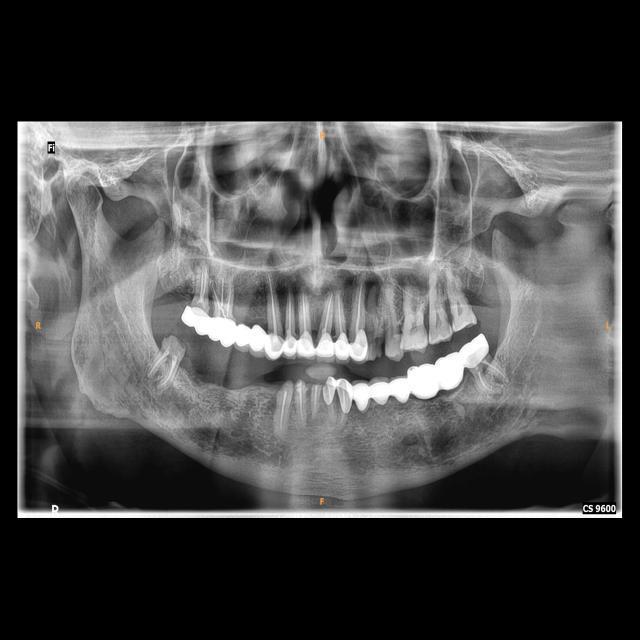dentin-curugu: (371, 331, 383, 362)
kanal-tedavisi: (473, 358, 513, 395), (208, 273, 234, 314), (266, 276, 284, 333), (146, 347, 172, 380), (192, 264, 208, 308), (298, 287, 312, 336), (157, 359, 179, 389), (285, 286, 297, 334), (354, 284, 364, 338), (275, 392, 289, 429), (334, 287, 344, 337), (323, 289, 333, 334), (311, 388, 320, 416), (297, 392, 305, 423)
kaplama: (458, 327, 493, 371), (212, 318, 235, 347), (181, 306, 208, 330), (335, 381, 354, 412), (320, 376, 337, 405), (267, 332, 285, 358), (318, 333, 335, 359), (297, 330, 315, 354), (354, 330, 367, 363), (334, 334, 350, 359), (285, 333, 297, 357)
kopru: (352, 344, 477, 429), (232, 315, 270, 357)
